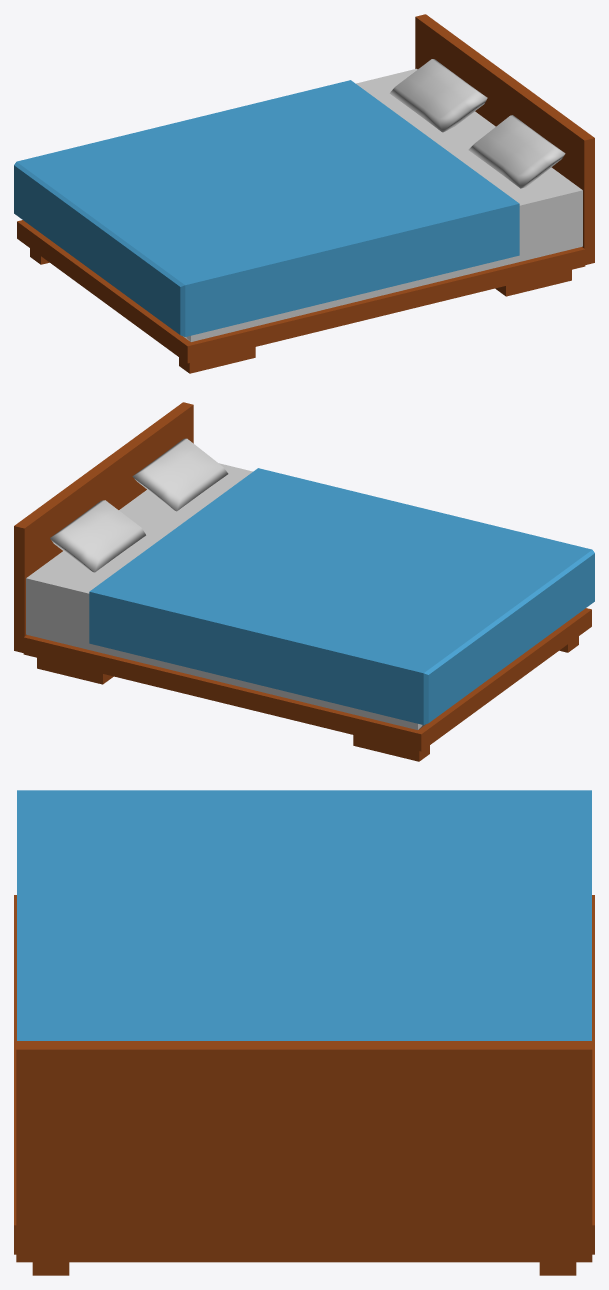
File: Bed.fbx
The picture shows the model from 3 angles, top to bottom: view 1: azimuth 30°, elevation 25°; view 2: azimuth 150°, elevation 25°; view 3: azimuth 270°, elevation 25°; orthographic projection. The views are drawn at different scales.
Visible parts, largest first — view 1: Bed, Pillow1, Pillow2; view 2: Bed, Pillow1, Pillow2; view 3: Bed.
Part boxes in pixels (x1=…): Bed: x1=14, y1=14, x2=594, y2=373; Pillow1: x1=389, y1=59, x2=487, y2=132; Pillow2: x1=468, y1=115, x2=565, y2=188; Bed: x1=14, y1=402, x2=594, y2=761; Pillow1: x1=50, y1=500, x2=145, y2=572; Pillow2: x1=132, y1=438, x2=228, y2=511; Bed: x1=14, y1=790, x2=594, y2=1275.
Size of the model in its own units: 919 by 301 by 657.
